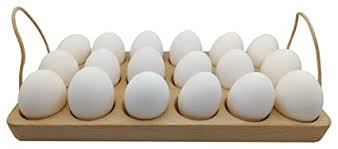eggs: (244, 28, 308, 121), (124, 16, 168, 114), (205, 25, 251, 115), (71, 17, 116, 108), (26, 38, 71, 104), (170, 22, 202, 111)
